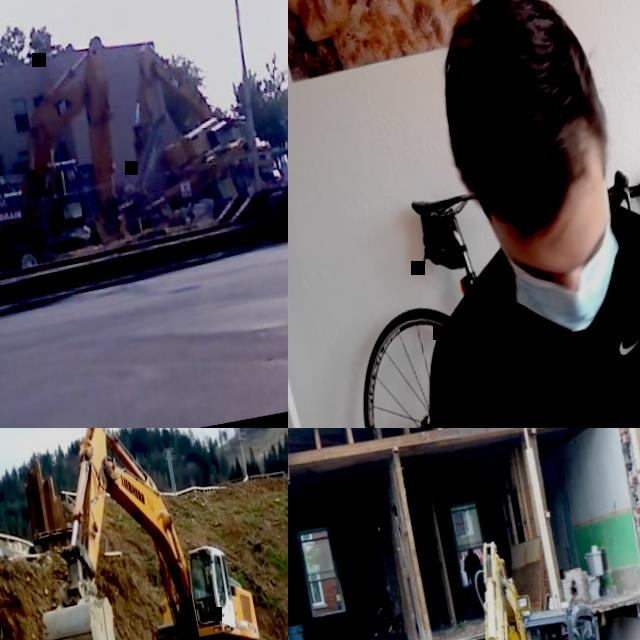Mask: (502, 226, 634, 342)
NO-Hardhat: (416, 0, 620, 235), (559, 625, 572, 638)
NO-Safety Vest: (438, 207, 640, 428)
Person: (347, 0, 640, 428), (460, 546, 488, 602), (207, 573, 226, 615)
machinery: (3, 428, 268, 640), (117, 23, 285, 222), (0, 32, 142, 265), (413, 515, 640, 640)
